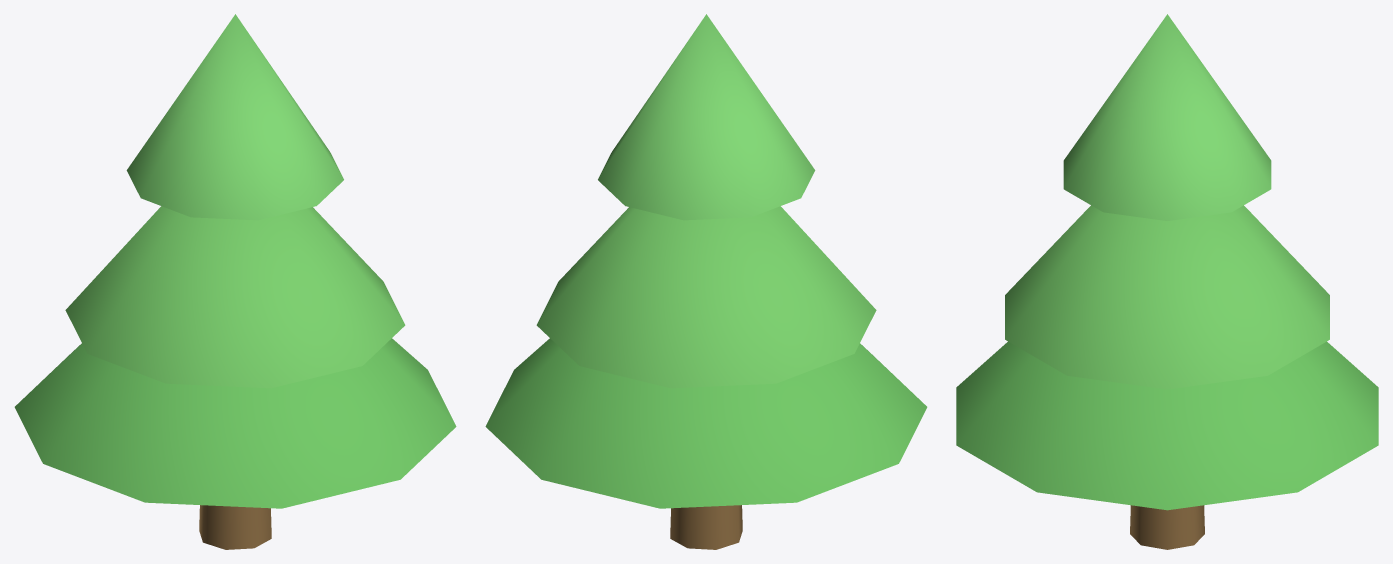
The model's file is tree.glb.
3 renders of one model, left to right at view 1: azimuth 30°, elevation 25°; view 2: azimuth 150°, elevation 25°; view 3: azimuth 270°, elevation 25°, orthographic.
Visible parts, largest first — view 1: foliage1, foliage2, foliage3, trunk; view 2: foliage1, foliage2, foliage3, trunk; view 3: foliage1, foliage2, foliage3, trunk.
Boxes of the visible parts, x1=… form: foliage1: x1=14, y1=338, x2=456, y2=508; foliage2: x1=65, y1=206, x2=405, y2=388; foliage3: x1=126, y1=14, x2=343, y2=220; trunk: x1=199, y1=505, x2=271, y2=549; foliage1: x1=485, y1=338, x2=927, y2=508; foliage2: x1=536, y1=206, x2=876, y2=388; foliage3: x1=598, y1=14, x2=815, y2=220; trunk: x1=670, y1=505, x2=742, y2=549; foliage1: x1=956, y1=341, x2=1378, y2=510; foliage2: x1=1005, y1=205, x2=1329, y2=389; foliage3: x1=1063, y1=14, x2=1271, y2=220; trunk: x1=1130, y1=505, x2=1204, y2=549.
Size of the model in its own units: 1.3 by 1.68 by 1.24.
